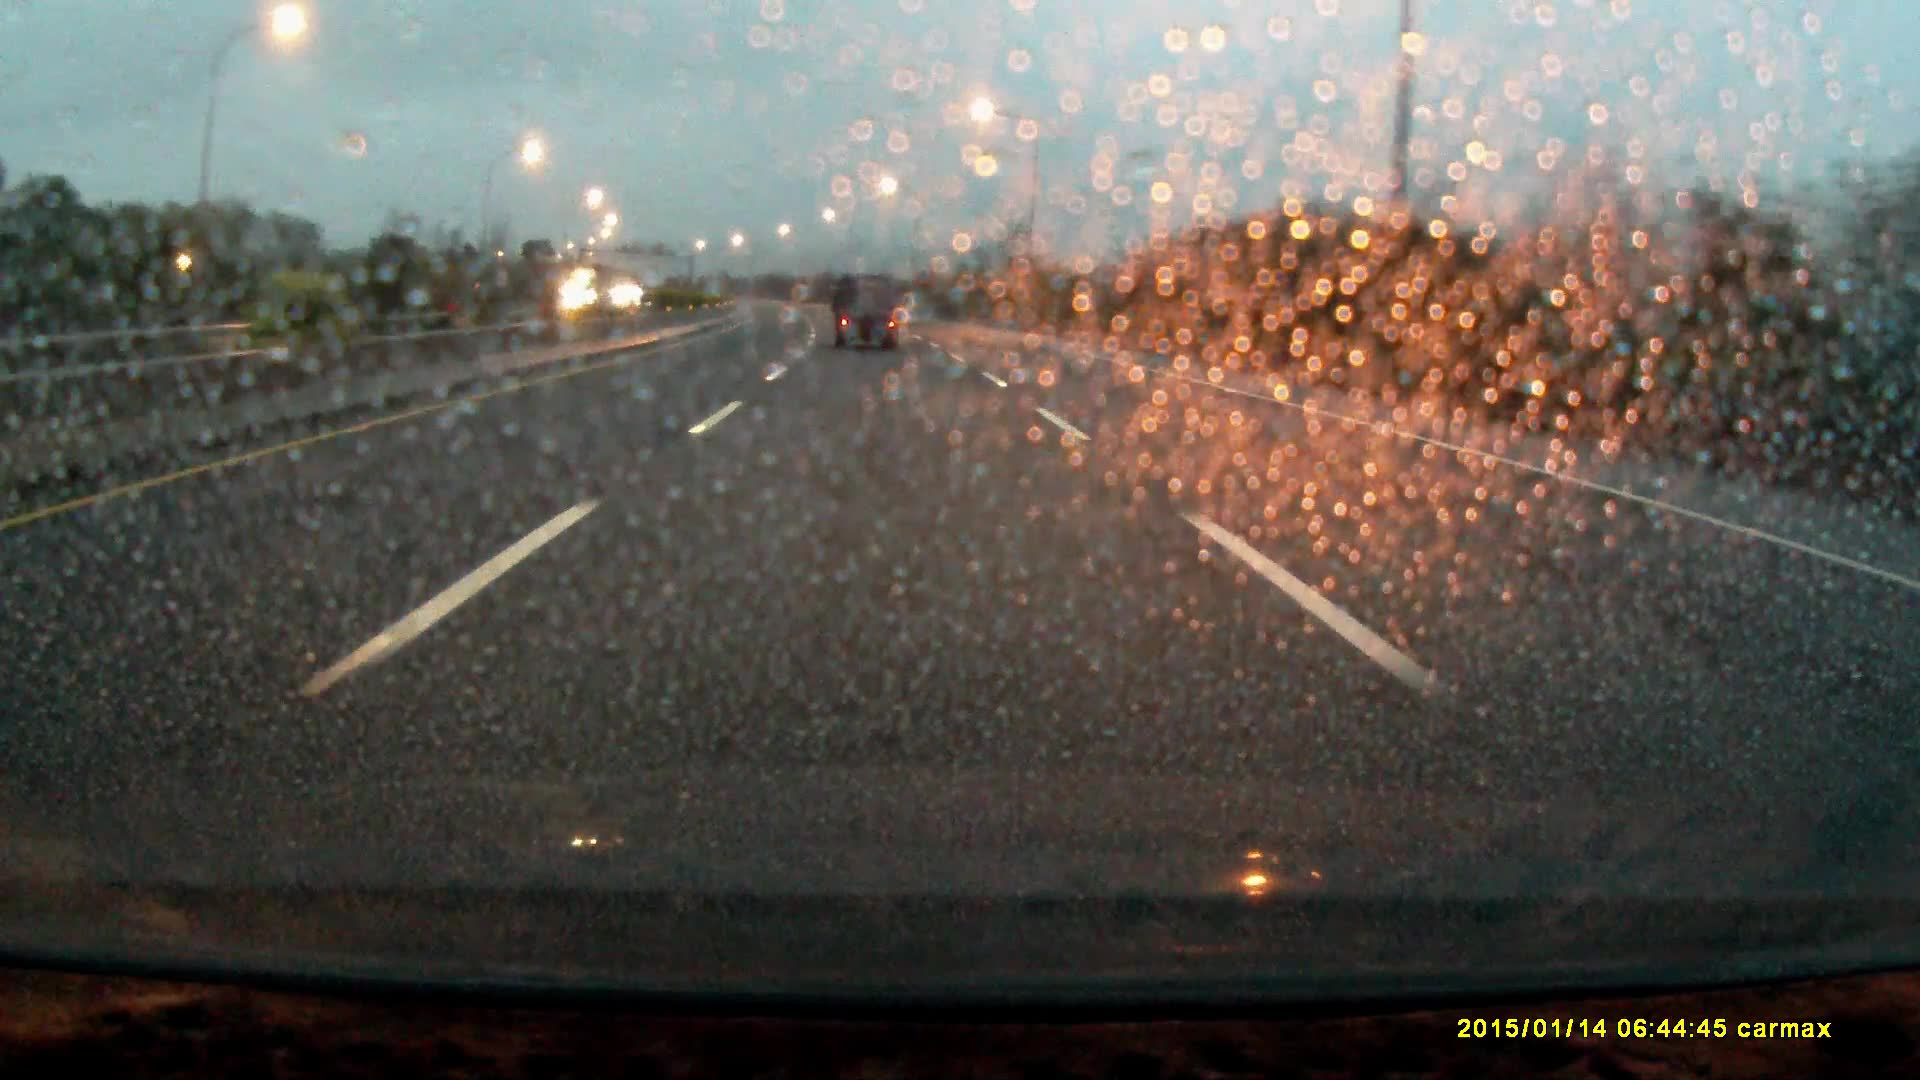vehicle: (832, 276, 902, 353), (568, 268, 634, 320)
